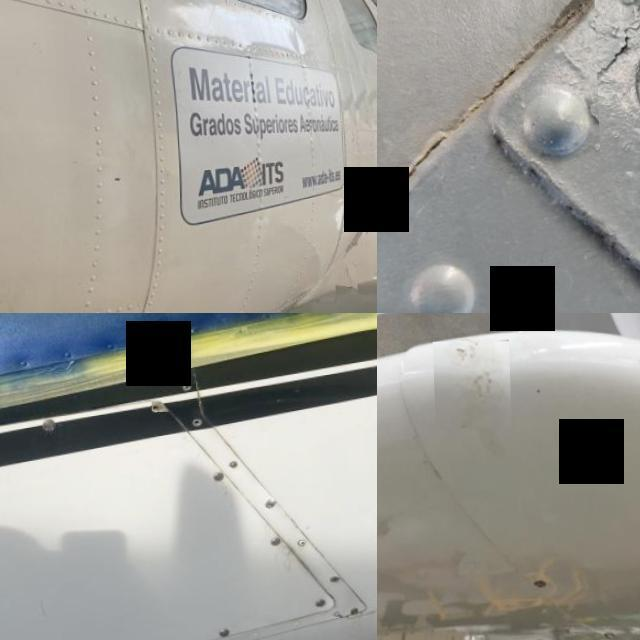Crack: (430, 342, 509, 431), (625, 352, 640, 414), (331, 264, 354, 298)
Missing_Fastener: (592, 0, 640, 173), (189, 420, 200, 430), (148, 406, 158, 416), (262, 504, 272, 512), (326, 579, 336, 587), (180, 386, 188, 394), (262, 318, 269, 323)
